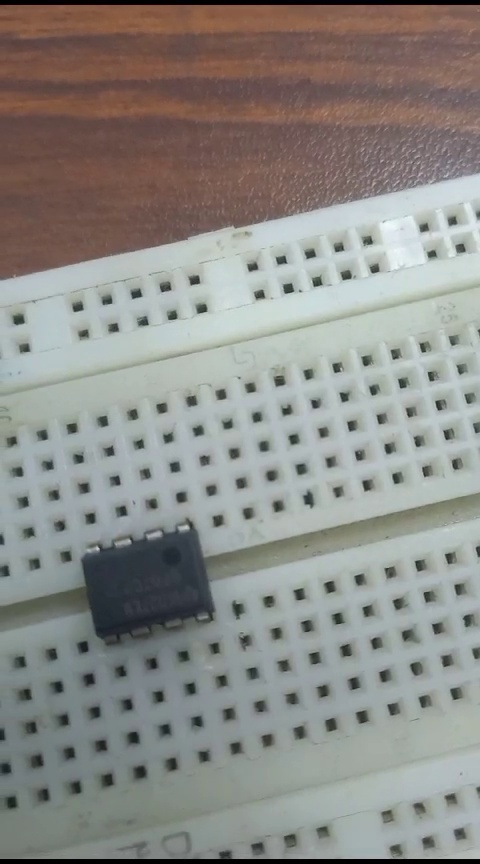IC: (80, 515, 230, 643)
